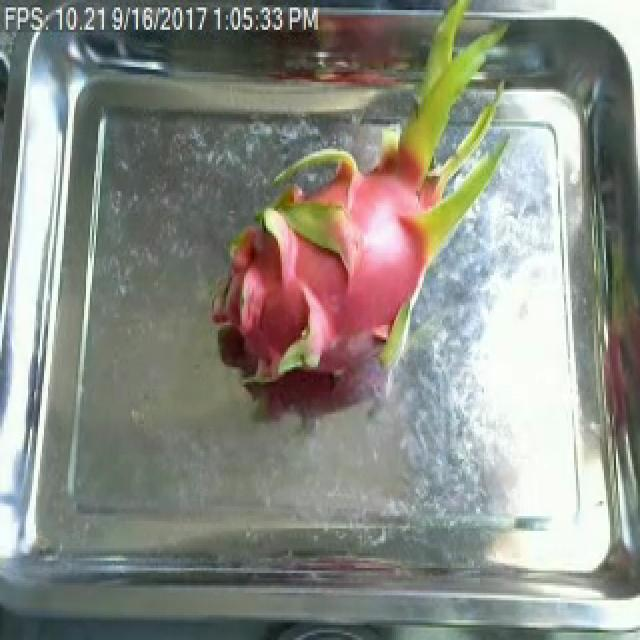fruit: (192, 52, 534, 409)
